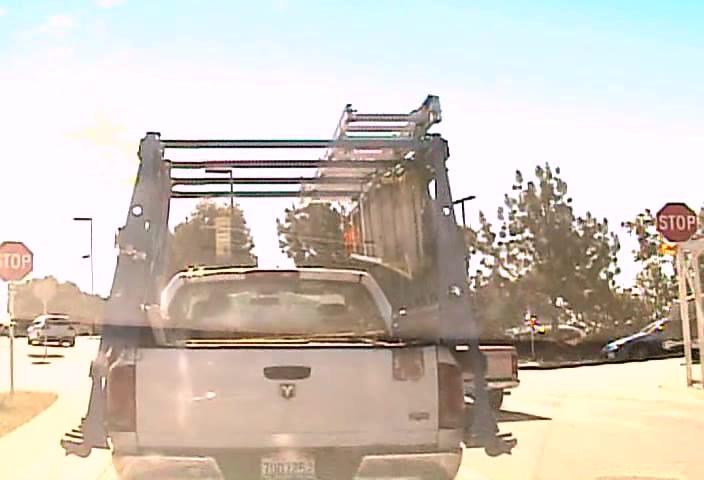stop: (655, 202, 697, 243)
